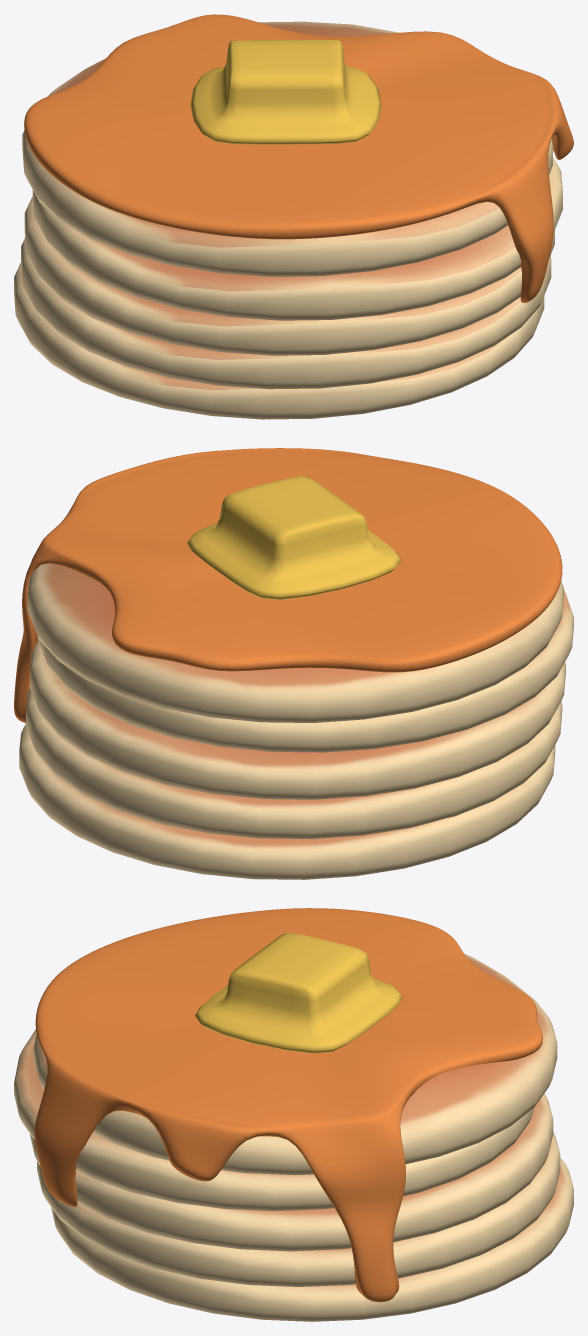
The model's file is Pancake_Butter_Syrup.fbx.
3 views of the same model, one above another, from view 1: azimuth 30°, elevation 25°; view 2: azimuth 150°, elevation 25°; view 3: azimuth 270°, elevation 25° (orthographic). The views are drawn at different scales.
Visible parts, largest first — view 1: Sirup, Pancake.001, Pancake, Pancake.002, Pancake.003, Butter, Pancake.004; view 2: Sirup, Pancake, Pancake.002, Pancake.004, Pancake.003, Butter, Pancake.001; view 3: Sirup, Pancake.002, Pancake.004, Pancake.003, Pancake, Butter, Pancake.001.
Boxes of the visible parts, x1,y1,x2,y2 form: Sirup: (24, 14, 573, 302); Pancake.001: (32, 158, 562, 320); Pancake: (22, 21, 552, 276); Pancake.002: (24, 196, 554, 355); Pancake.003: (21, 238, 551, 389); Butter: (190, 39, 381, 144); Pancake.004: (14, 263, 544, 419); Sirup: (14, 448, 562, 723); Pancake: (27, 563, 563, 722); Pancake.002: (30, 641, 565, 799); Pancake.004: (19, 724, 555, 879); Pancake.003: (26, 688, 562, 838); Butter: (187, 476, 401, 599); Pancake.001: (38, 590, 573, 752); Sirup: (34, 908, 542, 1302); Pancake.002: (29, 1093, 553, 1251); Pancake.004: (51, 1158, 573, 1321); Pancake.003: (37, 1132, 560, 1286); Pancake: (33, 953, 557, 1175); Butter: (195, 932, 402, 1053); Pancake.001: (14, 1029, 533, 1210).
Bounding box in the file's own units: 364 × 194 × 382.
